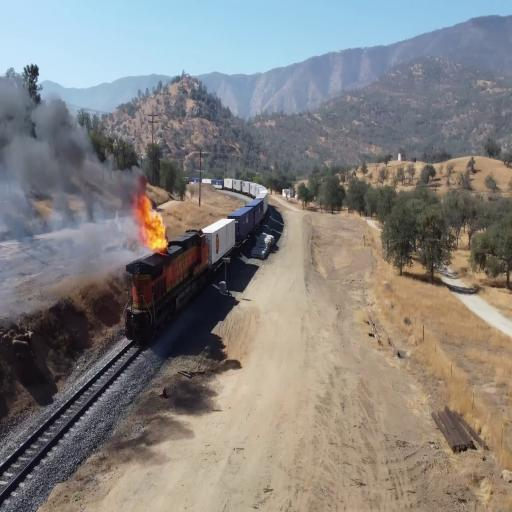fire: (135, 184, 171, 244)
smoke: (34, 102, 100, 184)
